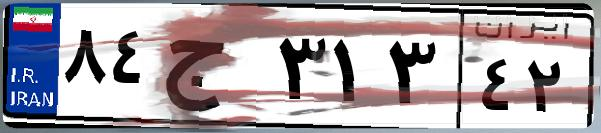1: (330, 28, 385, 110)
2: (525, 38, 570, 115)
3: (270, 28, 330, 110), (385, 28, 445, 110)
4: (475, 38, 525, 113), (110, 28, 158, 98)
8: (57, 26, 110, 100)
ج: (158, 20, 270, 120)
